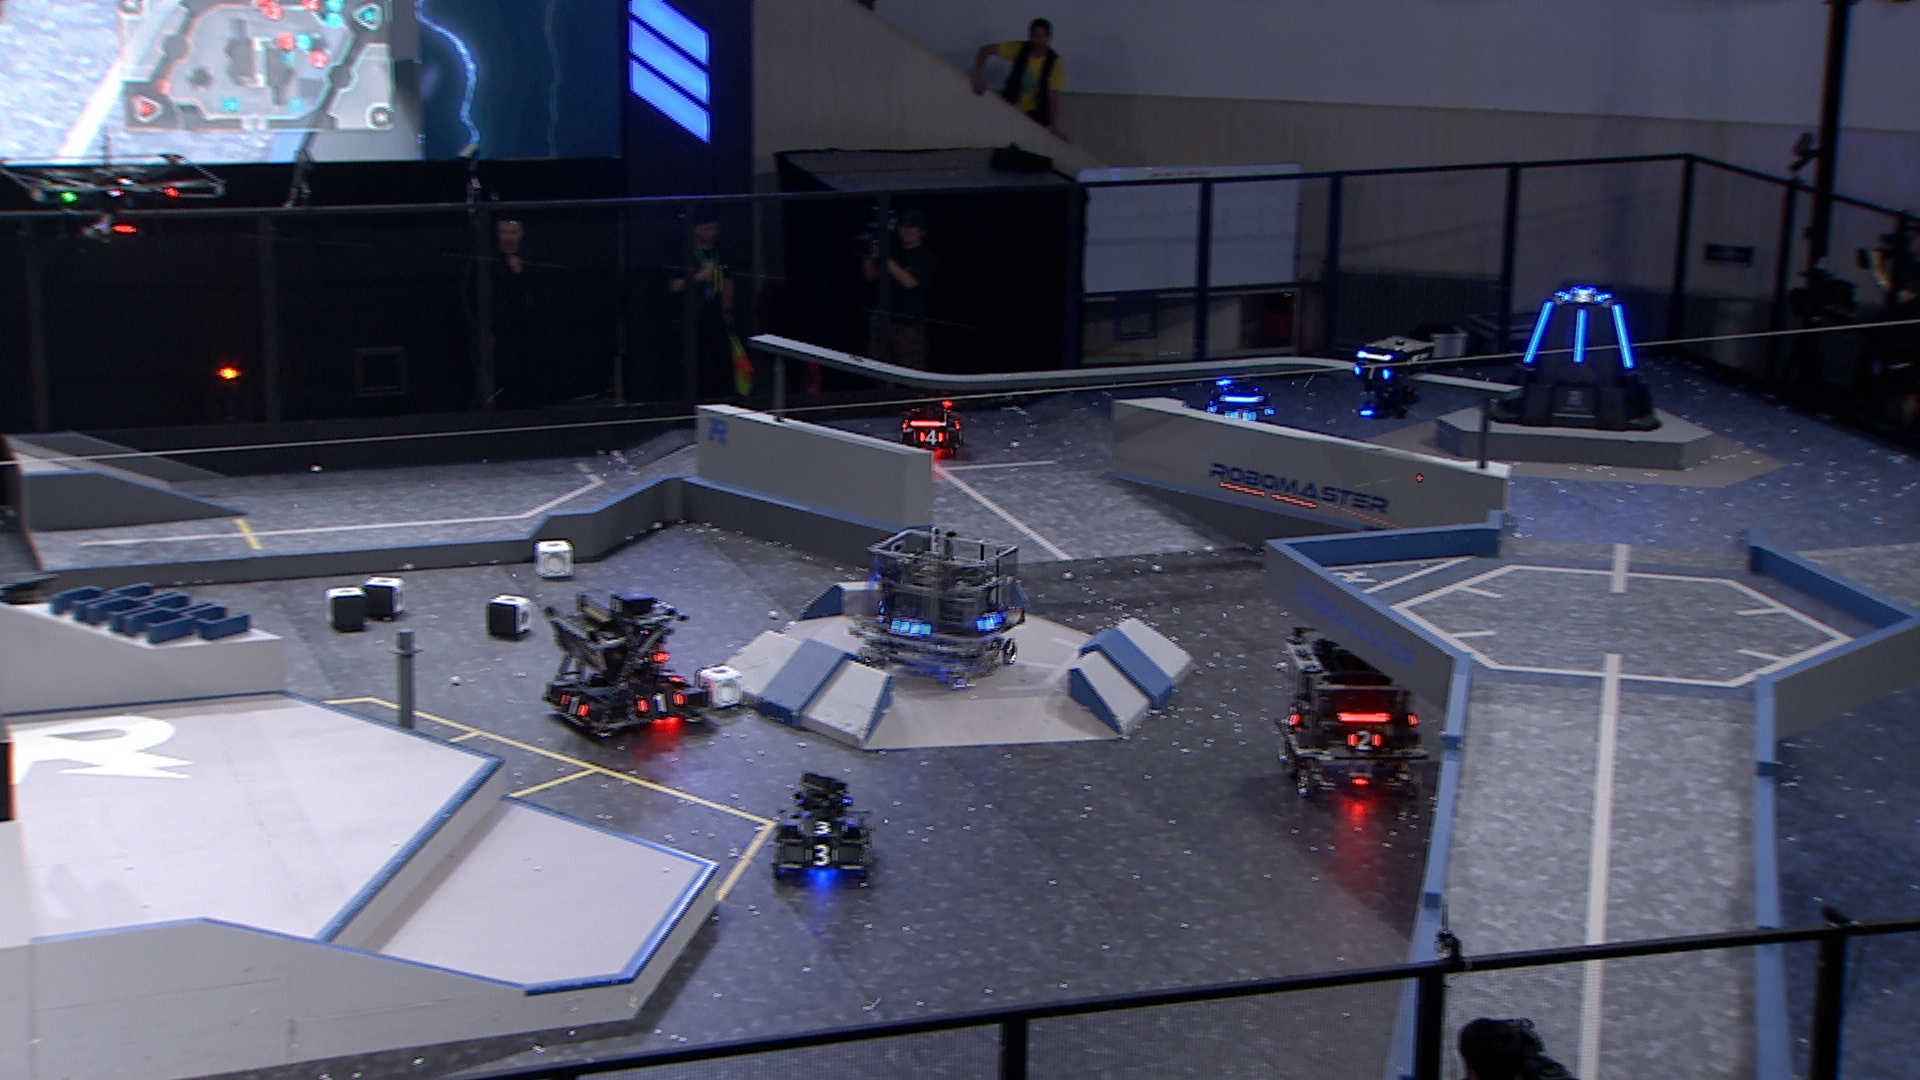armor: (1520, 295, 1556, 365), (1607, 301, 1634, 373), (633, 692, 684, 716), (1571, 309, 1590, 365), (887, 613, 930, 640), (556, 692, 593, 719), (796, 816, 849, 835), (803, 843, 839, 868), (1557, 286, 1605, 305), (1352, 361, 1393, 382), (1346, 728, 1382, 752), (1222, 404, 1258, 425), (1282, 700, 1304, 731), (654, 665, 688, 684), (977, 608, 1004, 632), (916, 425, 944, 446)
base: (1487, 282, 1667, 436)
car: (851, 520, 1030, 692), (1273, 618, 1433, 800), (542, 583, 713, 740), (770, 770, 878, 884), (1195, 365, 1280, 439), (895, 386, 969, 460)
watcher: (1346, 334, 1433, 425)
